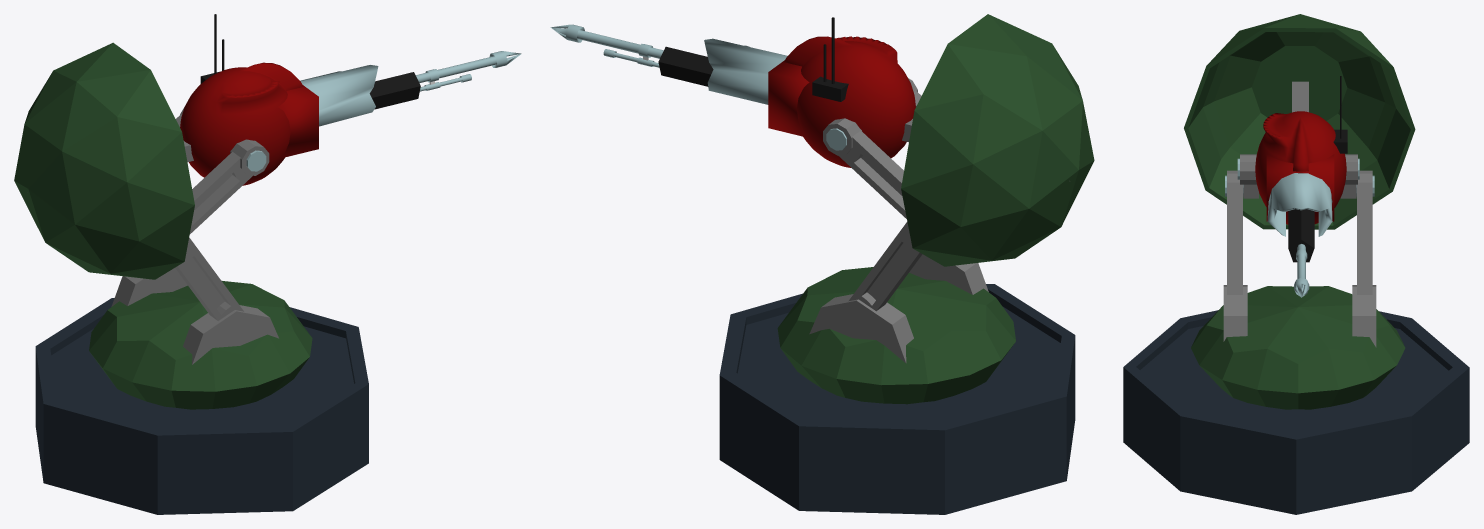
Rendered from laserturret.fbx.
The picture shows the model from 3 angles, left to right: view 1: azimuth 30°, elevation 25°; view 2: azimuth 150°, elevation 25°; view 3: azimuth 270°, elevation 25°; orthographic projection. The views are drawn at different scales.
Parts seen in each view (by area): view 1: base, Icosphere, basebracket, framebar, Sphere, Cylinder.002, Cube.001, Cylinder.005, Cylinder.006; view 2: base, Icosphere, basebracket, framebar, Sphere, Cylinder.002, Cube.001, Cylinder.005, Cylinder.006, Cube.002; view 3: base, Icosphere, basebracket, framebar, Sphere, Cylinder.002, Cube.001, Cylinder.005, Cylinder.006, Cube.
Part boxes in pixels (bbox=[...]): base: bbox=[35, 298, 368, 514]; Icosphere: bbox=[14, 42, 194, 279]; basebracket: bbox=[89, 281, 312, 409]; framebar: bbox=[111, 107, 278, 364]; Sphere: bbox=[180, 62, 303, 185]; Cylinder.002: bbox=[300, 65, 378, 126]; Cube.001: bbox=[278, 85, 318, 157]; Cylinder.005: bbox=[369, 72, 420, 109]; Cylinder.006: bbox=[416, 51, 521, 83]; base: bbox=[719, 284, 1075, 514]; Icosphere: bbox=[901, 14, 1094, 266]; basebracket: bbox=[777, 267, 1015, 404]; framebar: bbox=[809, 78, 988, 363]; Sphere: bbox=[784, 36, 915, 167]; Cylinder.002: bbox=[704, 38, 787, 104]; Cube.001: bbox=[768, 60, 809, 137]; Cylinder.005: bbox=[658, 46, 713, 86]; Cylinder.006: bbox=[550, 24, 663, 58]; Cube.002: bbox=[812, 76, 848, 101]; base: bbox=[1123, 310, 1469, 514]; Icosphere: bbox=[1184, 14, 1415, 229]; basebracket: bbox=[1191, 286, 1405, 409]; framebar: bbox=[1223, 154, 1376, 347]; Sphere: bbox=[1255, 111, 1346, 224]; Cylinder.002: bbox=[1267, 173, 1332, 236]; Cube.001: bbox=[1266, 153, 1334, 221]; Cylinder.005: bbox=[1288, 209, 1314, 262]; Cylinder.006: bbox=[1294, 244, 1309, 297]; Cube: bbox=[1292, 81, 1308, 112].
Size of the model in its own units: 468 by 365 by 299.
